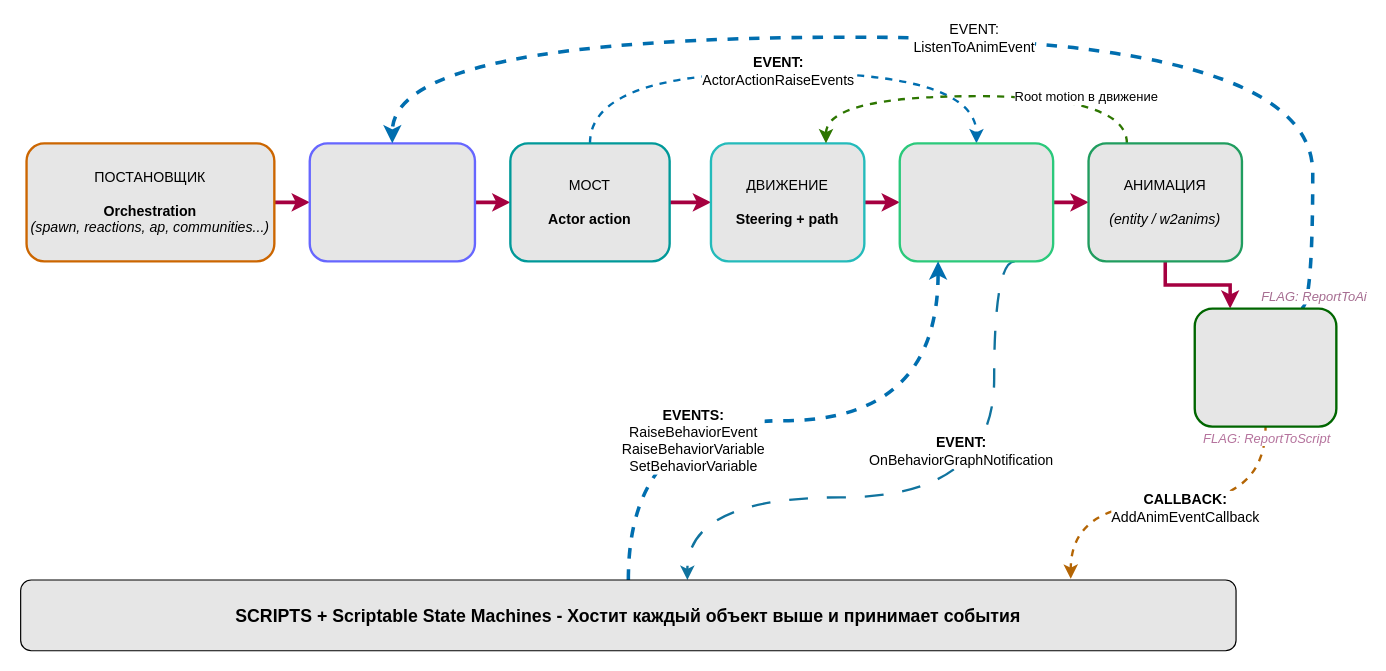
This 1386x671 diagram has some shape labels left out. Each missing label, with the centre of its shape:
"ANIMEVENTS (w2animev)" goes at point (1265, 367).
"ANIMGRAPH Behavior graph (w2beh)" goes at point (976, 202).
"РЕШЕНИЕ Behavior tree (w2behtree)" goes at point (392, 202).
